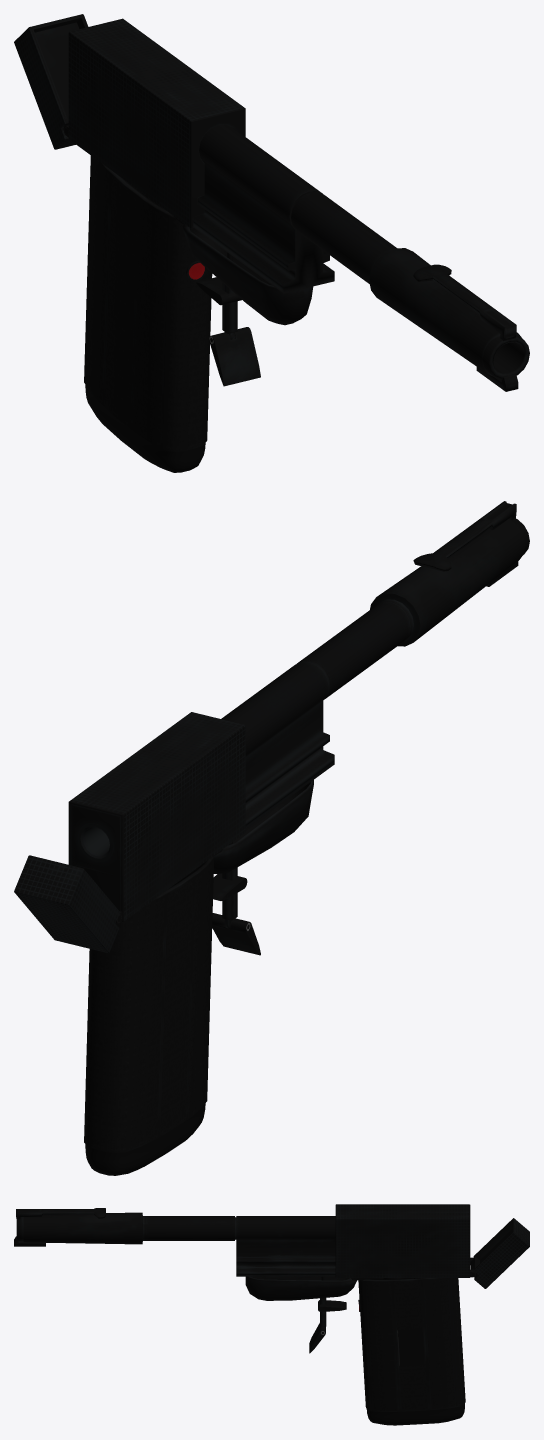
File: supergun.glb
The picture shows the model from 3 angles, top to bottom: view 1: azimuth 30°, elevation 25°; view 2: azimuth 150°, elevation 25°; view 3: azimuth 270°, elevation 25°; orthographic projection. The views are drawn at different scales.
Parts seen in each view (by area): view 1: polySurface1, polySurface27, polySurface20; view 2: polySurface1, polySurface27, polySurface20; view 3: polySurface1, polySurface27, polySurface20.
Boxes of the visible parts, x1,y1,x2,y2 form: polySurface1: (63, 18, 529, 472); polySurface27: (193, 124, 334, 293); polySurface20: (14, 14, 88, 149); polySurface1: (68, 501, 529, 1175); polySurface27: (221, 661, 334, 828); polySurface20: (14, 855, 119, 953); polySurface1: (14, 1204, 476, 1425); polySurface27: (236, 1216, 335, 1276); polySurface20: (470, 1218, 529, 1288).
Bounding box in the file's own units: 4.59 × 29.71 × 65.38.
1 material, 1 textured.
